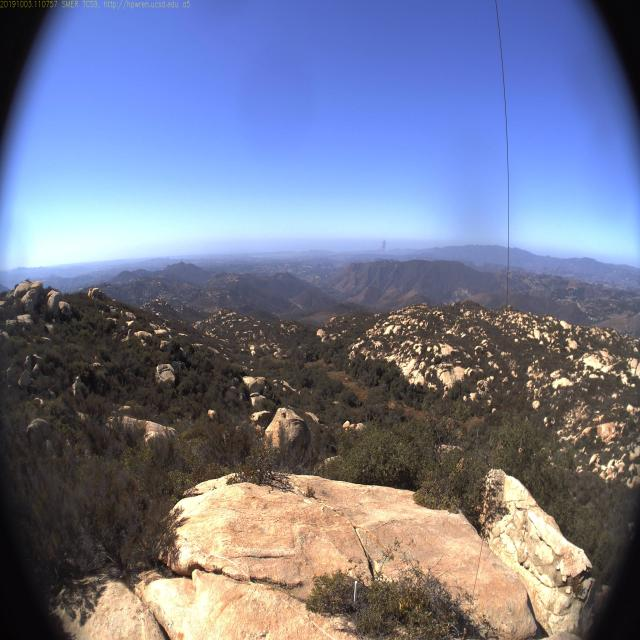smoke: (378, 233, 388, 254)
